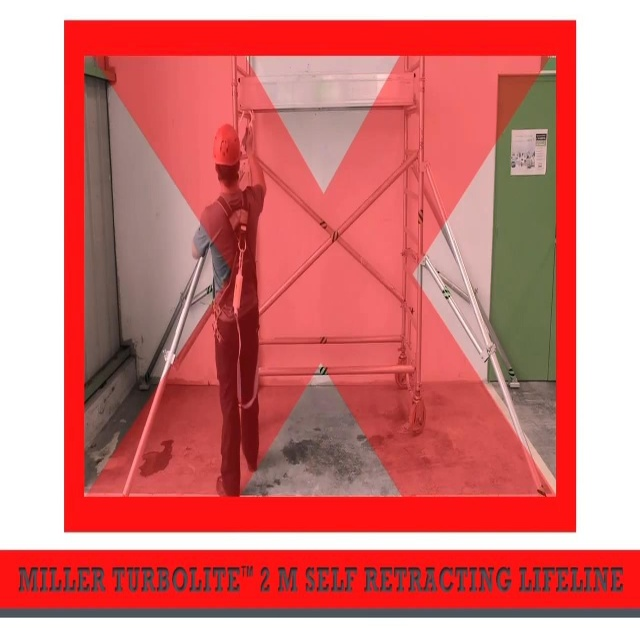Arnes_seguridad: (209, 166, 259, 365)
